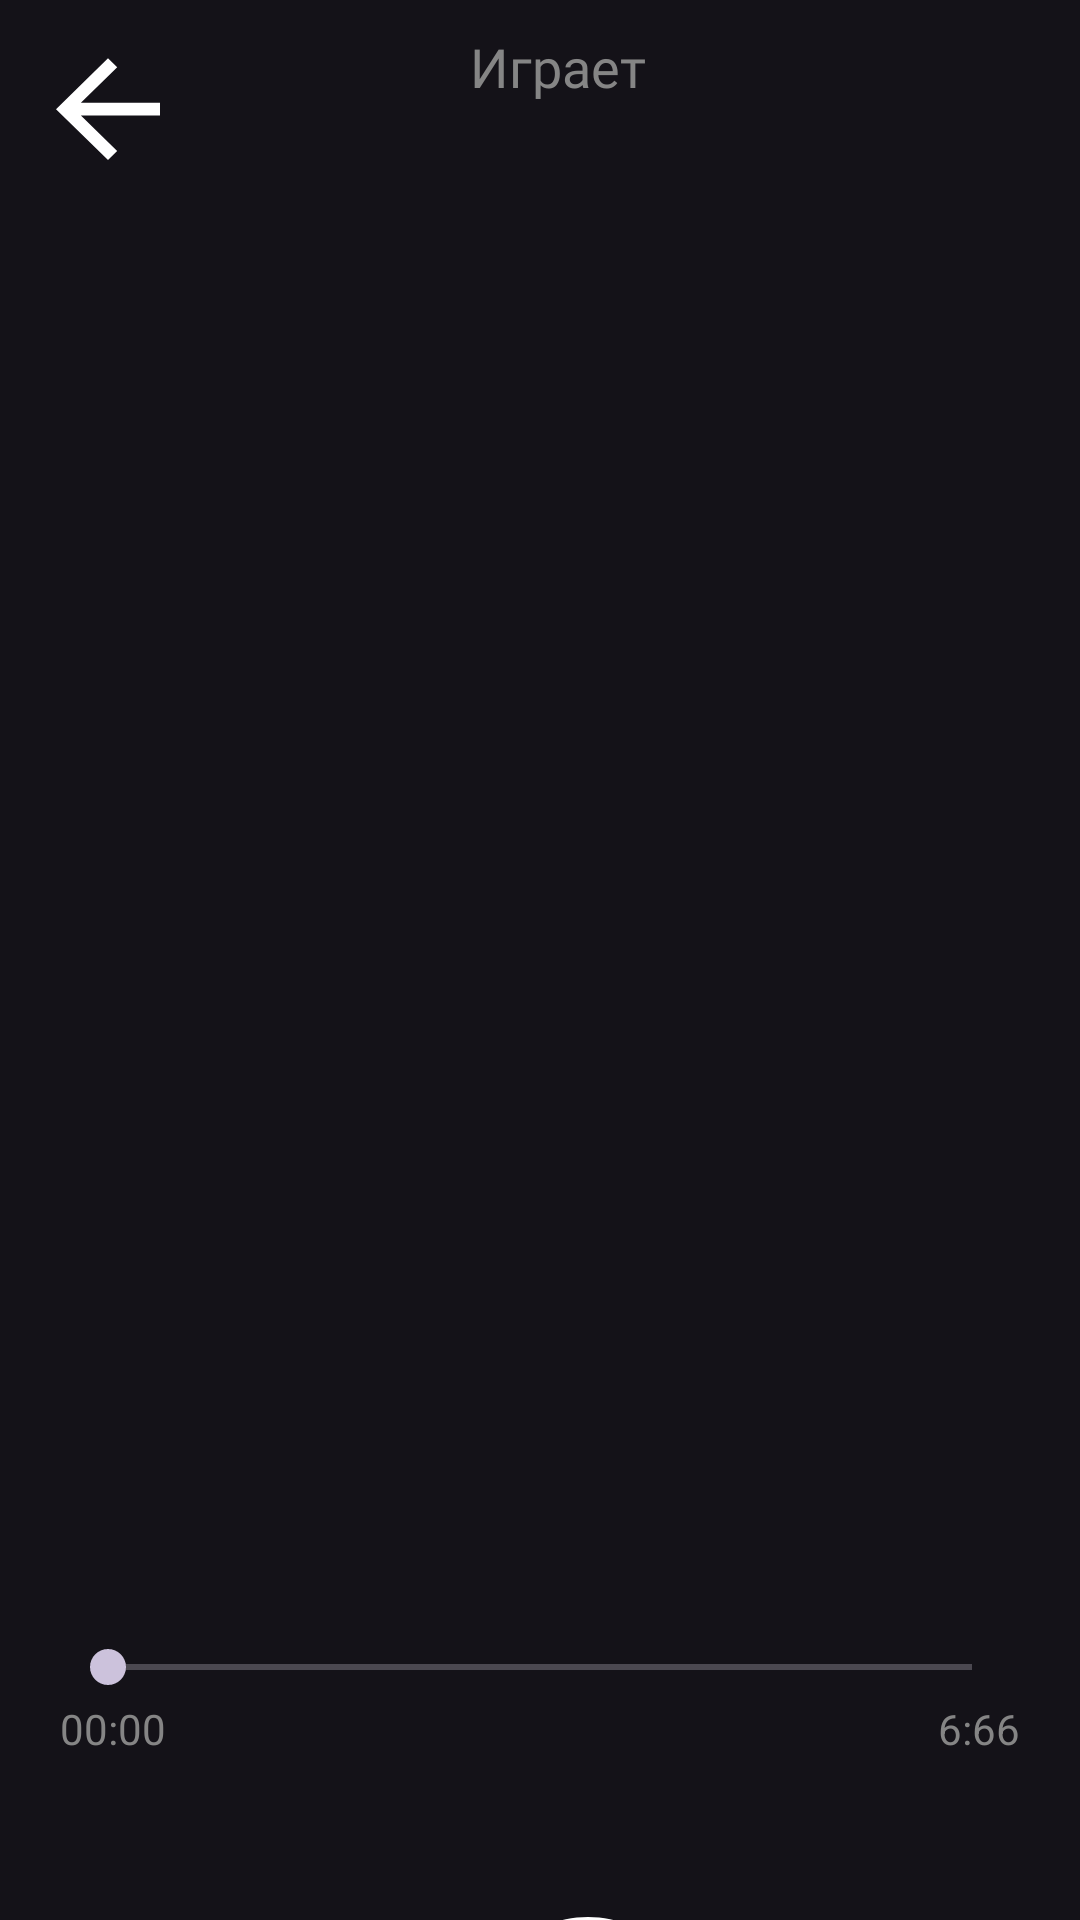

Point at icon controls on the screen. Image size 1080px x 1920px, points as (x=x, y=y).
arrow back: (x=108, y=109)
